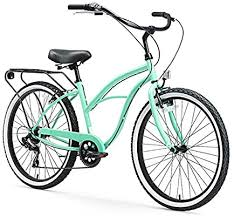bicycle: (2, 3, 234, 211)
